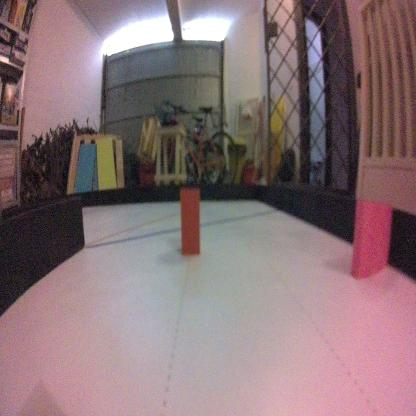magenta: (350, 200, 392, 284)
red: (180, 184, 202, 259)
